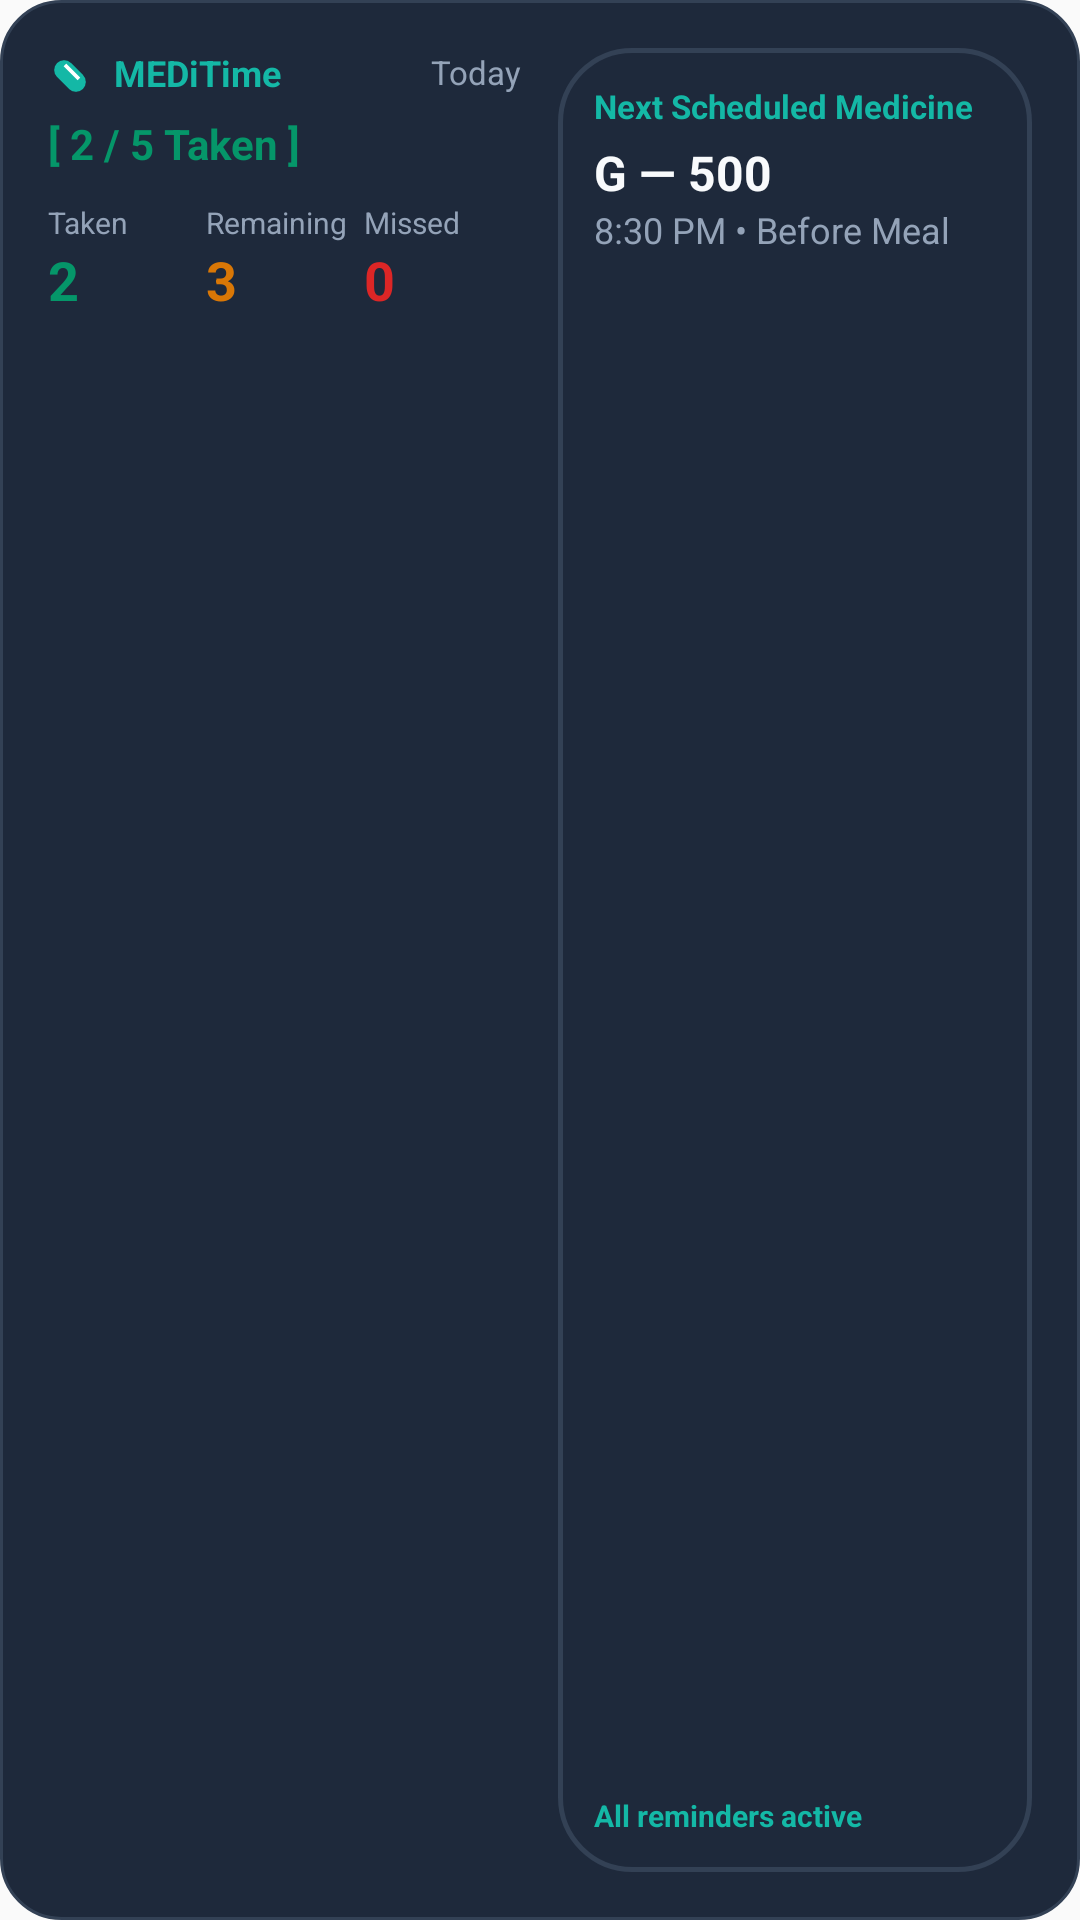

Named icons in this screenshot (1080w x 1920h) and their centers, point (x, y):
med pill: point (70, 76)
